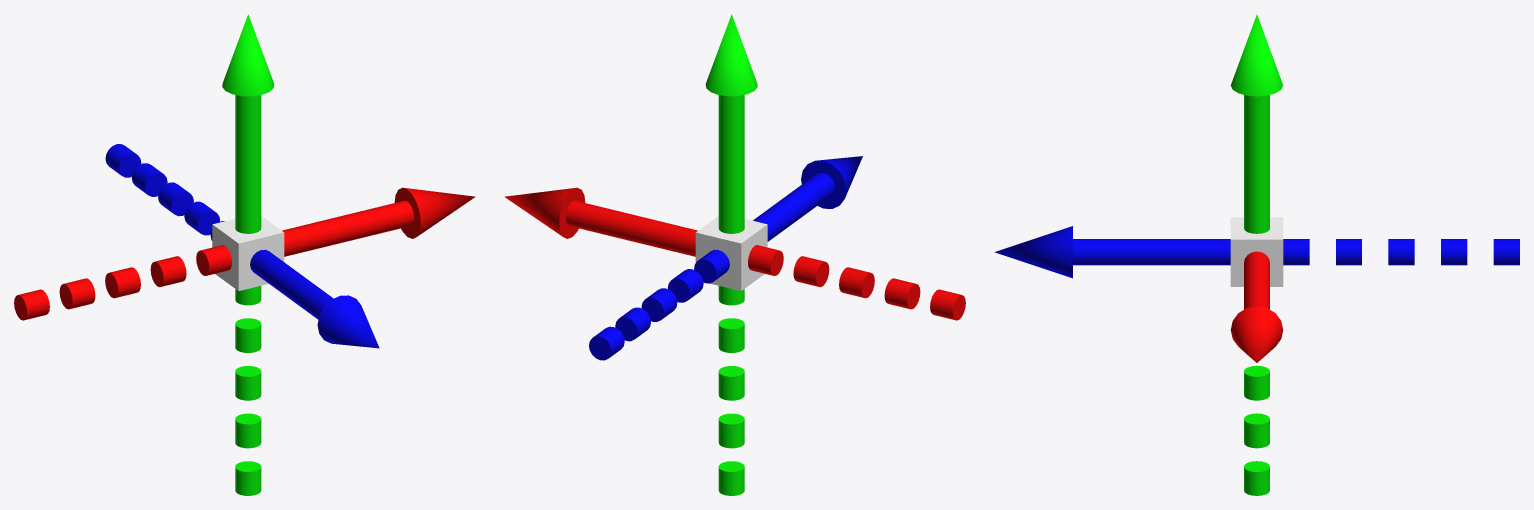
The model's file is debugAxisV2.obj.
3 views of the same model, side by side, from view 1: azimuth 30°, elevation 25°; view 2: azimuth 150°, elevation 25°; view 3: azimuth 270°, elevation 25° (orthographic).
Visible parts, largest first — view 1: Cylinder, Cylinder.002, Cylinder.001, Cube; view 2: Cylinder, Cylinder.002, Cylinder.001, Cube; view 3: Cylinder.001, Cylinder, Cylinder.002, Cube.
Part boxes in pixels (x1,y1,x2,y2): Cylinder: (222,14,274,495); Cylinder.002: (14,187,475,320); Cylinder.001: (105,144,379,348); Cube: (212,216,284,290); Cylinder: (705,14,757,495); Cylinder.002: (504,187,965,320); Cylinder.001: (589,156,862,360); Cube: (695,216,767,290); Cylinder.001: (994,226,1519,278); Cylinder: (1230,14,1283,495); Cylinder.002: (1230,251,1283,362); Cube: (1230,217,1283,286).
Bounding box in the file's own units: 0.2 × 0.2 × 0.2.
